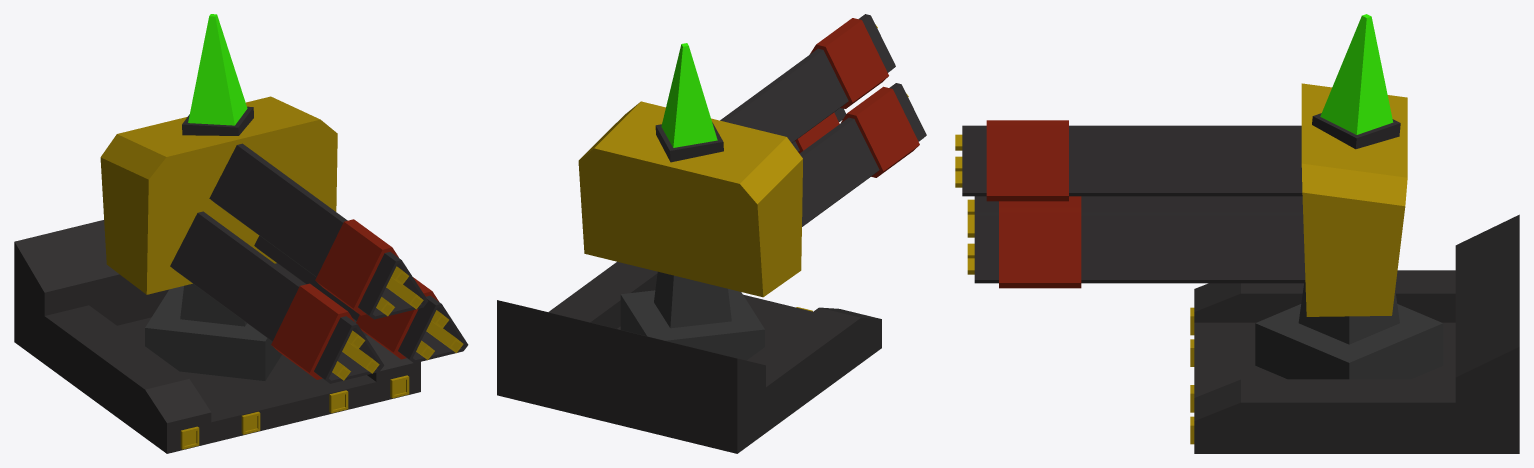
The model's file is GunCannonTurret.glb.
3 renders of one model, left to right at view 1: azimuth 30°, elevation 25°; view 2: azimuth 150°, elevation 25°; view 3: azimuth 270°, elevation 25°, orthographic. The views are drawn at different scales.
Parts seen in each view (by area): view 1: GunCannonTurret1, BaseCannonTurret1, MiddleCannonTurret1; view 2: GunCannonTurret1, BaseCannonTurret1, MiddleCannonTurret1; view 3: GunCannonTurret1, BaseCannonTurret1, MiddleCannonTurret1.
Boxes of the visible parts, box(x1,y1,x2,y2) form: GunCannonTurret1: box(100, 14, 468, 383); BaseCannonTurret1: box(14, 220, 420, 453); MiddleCannonTurret1: box(145, 283, 281, 380); GunCannonTurret1: box(578, 14, 926, 297); BaseCannonTurret1: box(497, 261, 881, 453); MiddleCannonTurret1: box(620, 271, 764, 360); GunCannonTurret1: box(955, 14, 1407, 316); BaseCannonTurret1: box(1190, 214, 1519, 453); MiddleCannonTurret1: box(1255, 283, 1443, 379).
Size of the model in its own units: 2.66 by 3.5 by 4.81.
